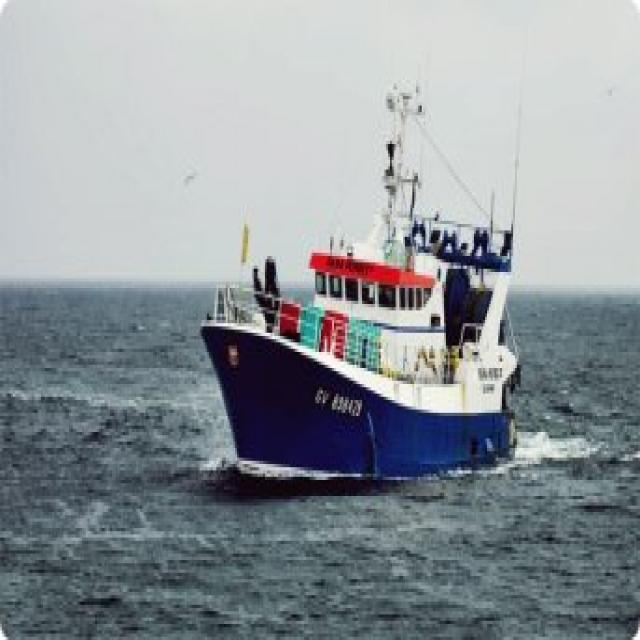Ship: (186, 52, 546, 491)
